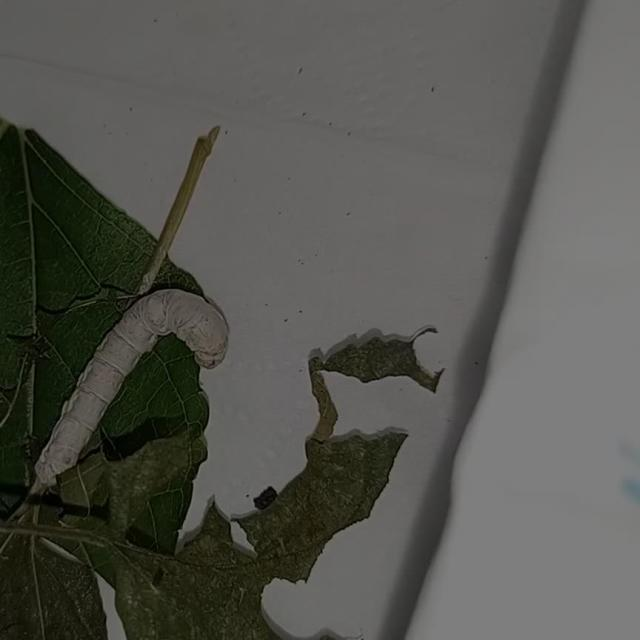Healthy: (25, 240, 239, 508)
